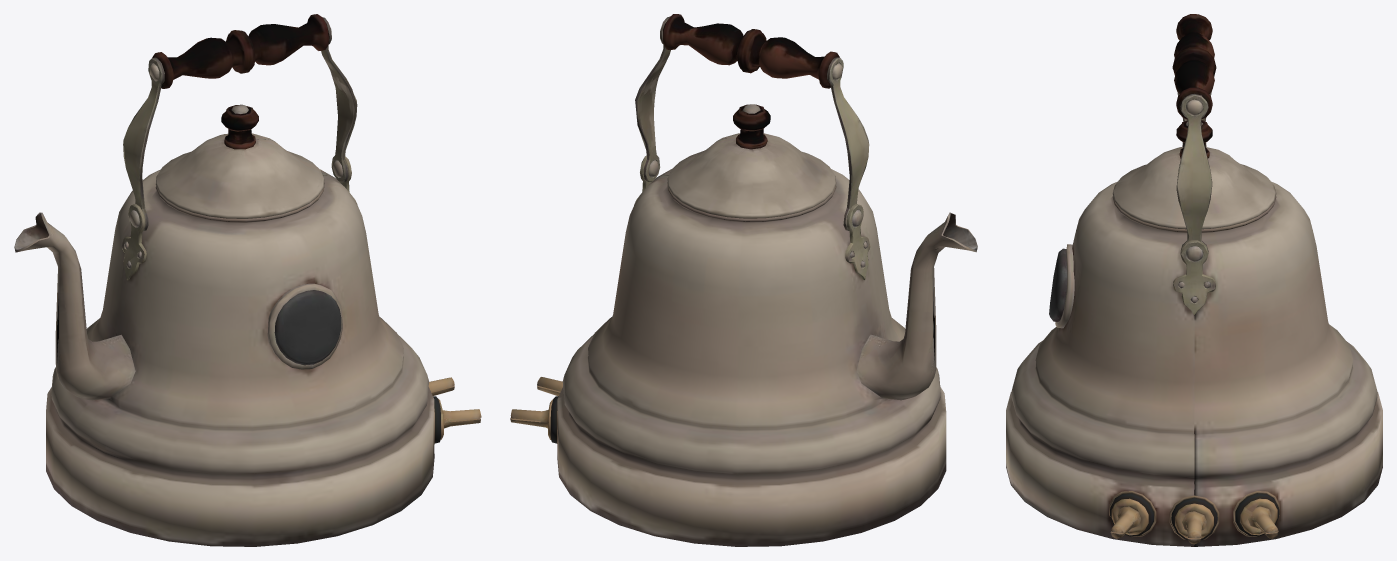
File: kettle.glb
3 renders of one model, left to right at view 1: azimuth 30°, elevation 25°; view 2: azimuth 150°, elevation 25°; view 3: azimuth 270°, elevation 25°, orthographic. The views are drawn at different scales.
Visible parts, largest first — view 1: vintage_electric_kettle; view 2: vintage_electric_kettle; view 3: vintage_electric_kettle.
Boxes of the visible parts, left/top/right/bottom form: vintage_electric_kettle: left=14, top=14, right=481, bottom=546; vintage_electric_kettle: left=510, top=14, right=977, bottom=546; vintage_electric_kettle: left=1006, top=14, right=1382, bottom=546.
Bounding box in the file's own units: 0.3209 × 0.3044 × 0.2478.
2 materials, 2 textured.
